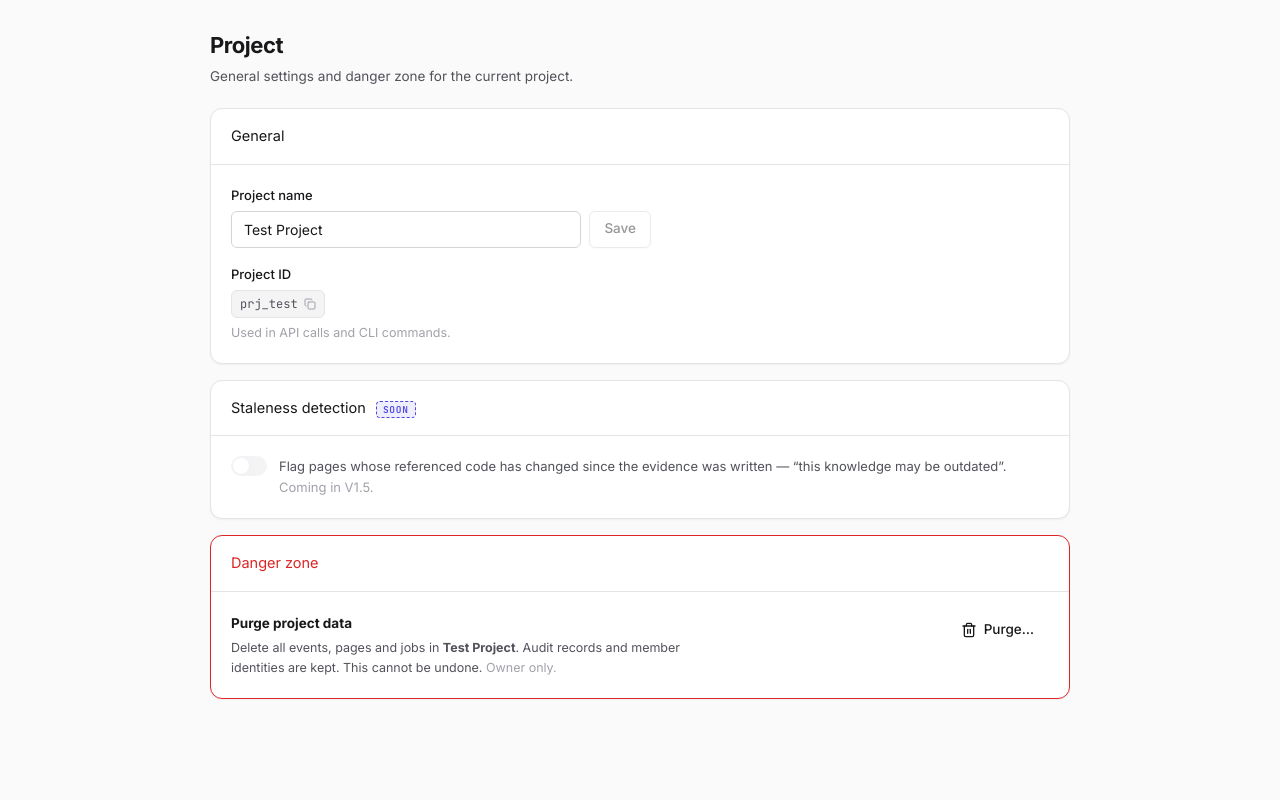
Test case: SettingsProjectPage › disables purge confirm until the correct project name is typed
The image size is (1280, 800).
Click the button "Purge…".
click(997, 630)  # box [946,612,1049,648]
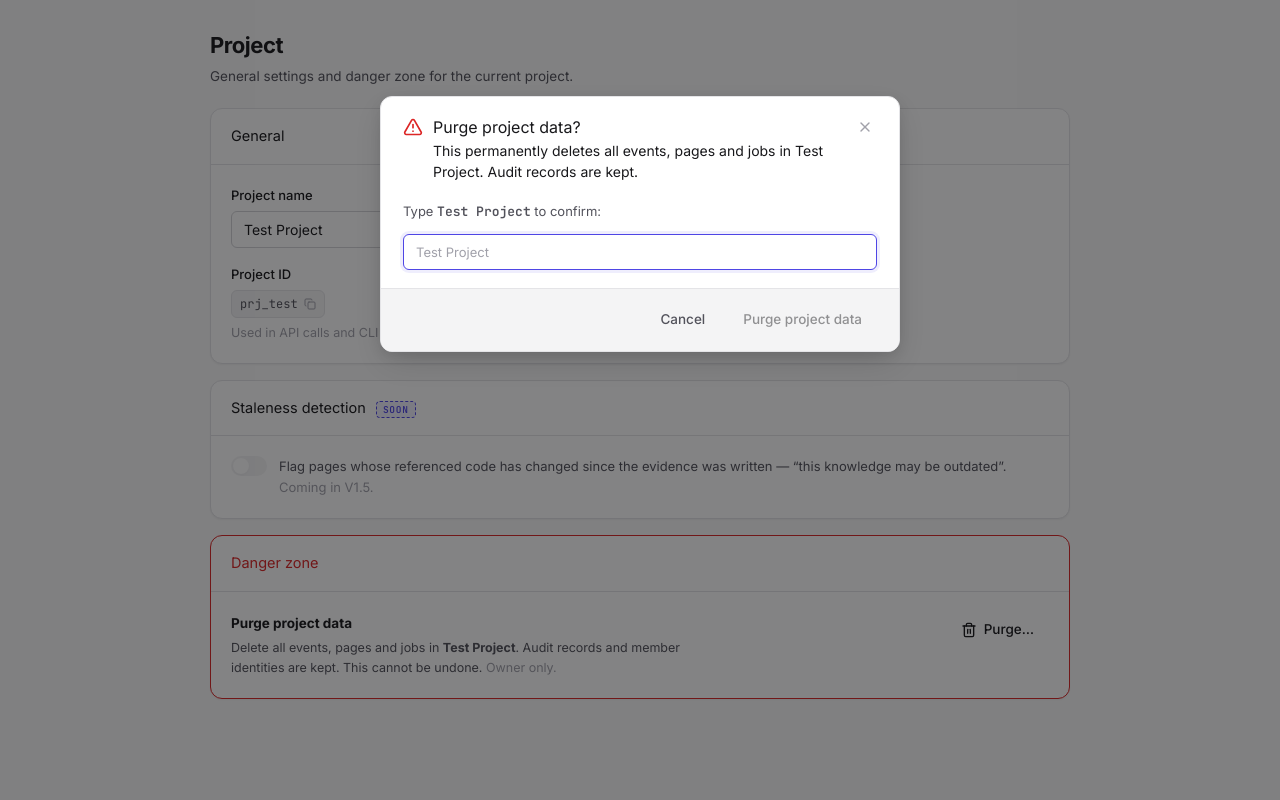
expect the heading "Purge project data?" is shown: met, box [433,117,581,137]
expect the button "Purge project data" is disabled: met, box [728,303,877,337]
Type "Wrong name" into the field with placeholder "Test Project".
click(640, 252); type("Wrong name")  # box [403,234,877,270]
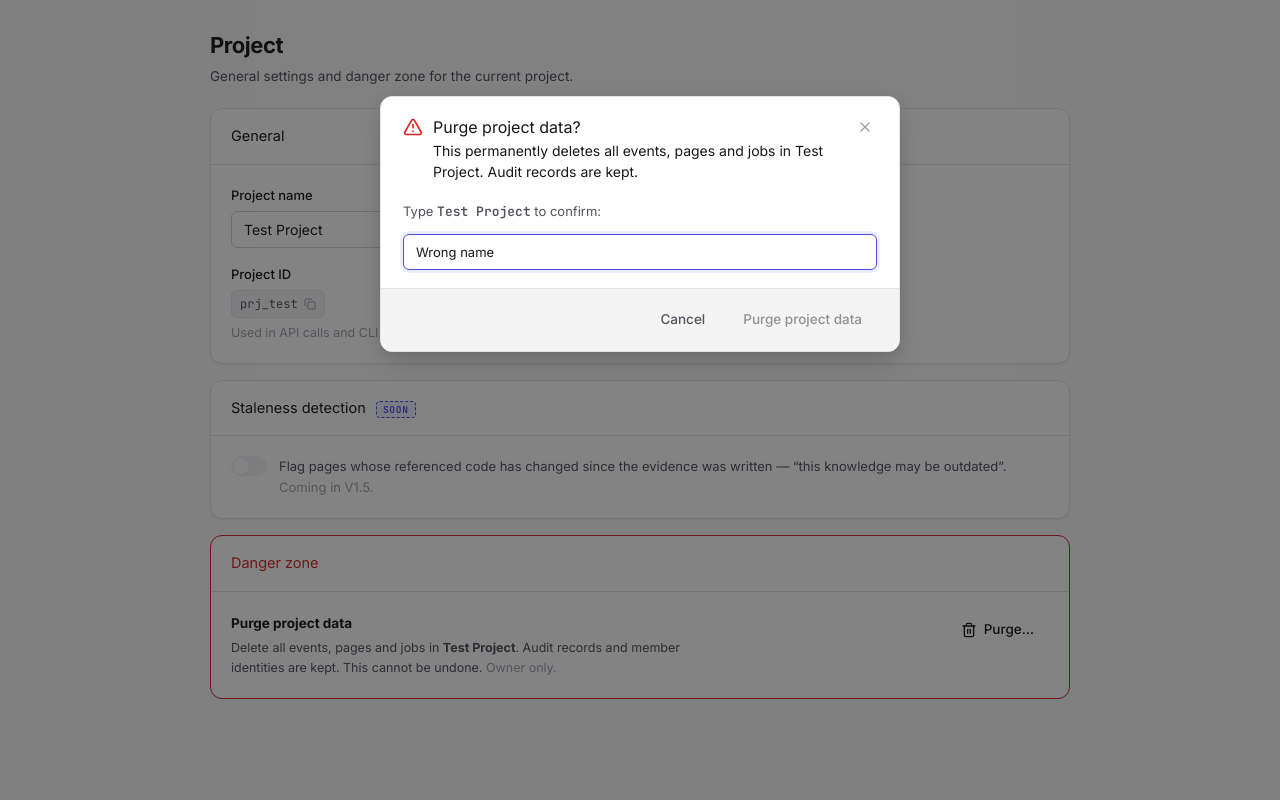
expect the button "Purge project data" is disabled: met, box [728,303,877,337]
Replace the text in the field with placeholder "Test Project" with "Test Project" at (640, 252), box [403,234,877,270]
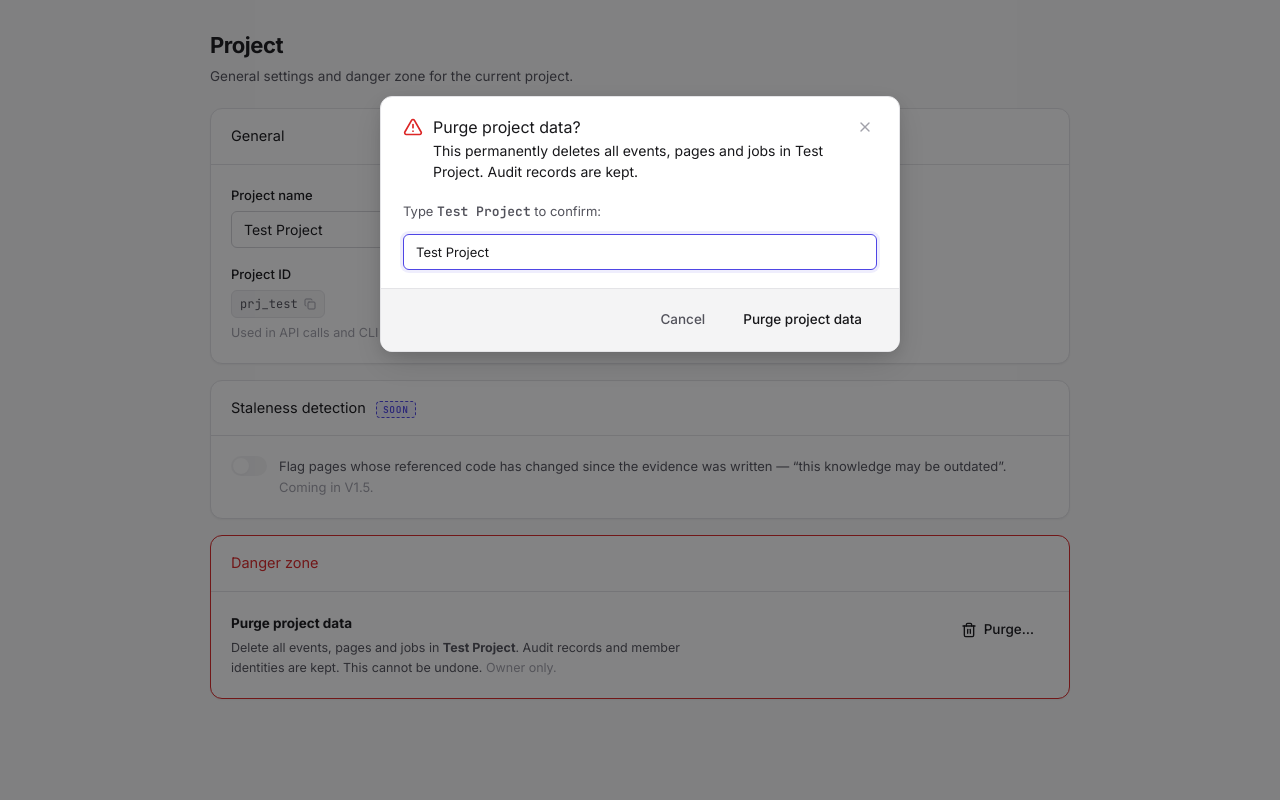
expect the button "Purge project data" is enabled: met, box [728,303,877,337]
